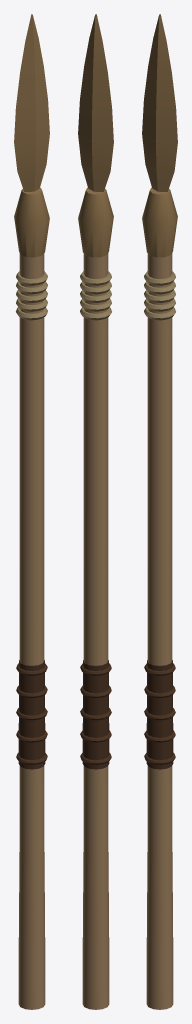
The model's file is melee_spear_wood.fbx.
The picture shows the model from 3 angles, left to right: view 1: azimuth 30°, elevation 25°; view 2: azimuth 150°, elevation 25°; view 3: azimuth 330°, elevation 25°; orthographic projection.
Parts seen in each view (by area): view 1: Handle, ToolHead; view 2: Handle, ToolHead; view 3: Handle, ToolHead.
Part boxes in pixels (x1,y1,x2,y2): Handle: (16,253,47,1009); ToolHead: (14,14,49,257); Handle: (80,253,111,1009); ToolHead: (78,14,113,257); Handle: (144,253,175,1009); ToolHead: (142,14,177,257).
Size of the model in its own units: 0.076 by 2 by 0.0628.
